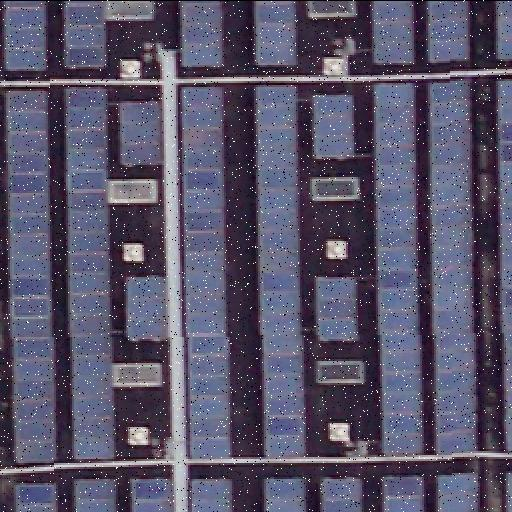solar-panel: (64, 89, 116, 463), (6, 89, 58, 463), (427, 80, 477, 456), (183, 85, 233, 459), (374, 81, 422, 455), (256, 85, 304, 459), (496, 81, 512, 455), (61, 1, 107, 71), (7, 0, 49, 72), (314, 274, 358, 342), (180, 0, 224, 68), (311, 95, 353, 161), (119, 99, 161, 165), (427, 0, 469, 64), (371, 0, 413, 64), (127, 277, 169, 339), (256, 0, 296, 64), (434, 472, 478, 512), (383, 472, 425, 512), (319, 473, 361, 511), (263, 473, 305, 511), (130, 476, 174, 512), (191, 476, 233, 512), (74, 480, 118, 512), (14, 480, 58, 512), (496, 1, 512, 63), (505, 472, 511, 512)
